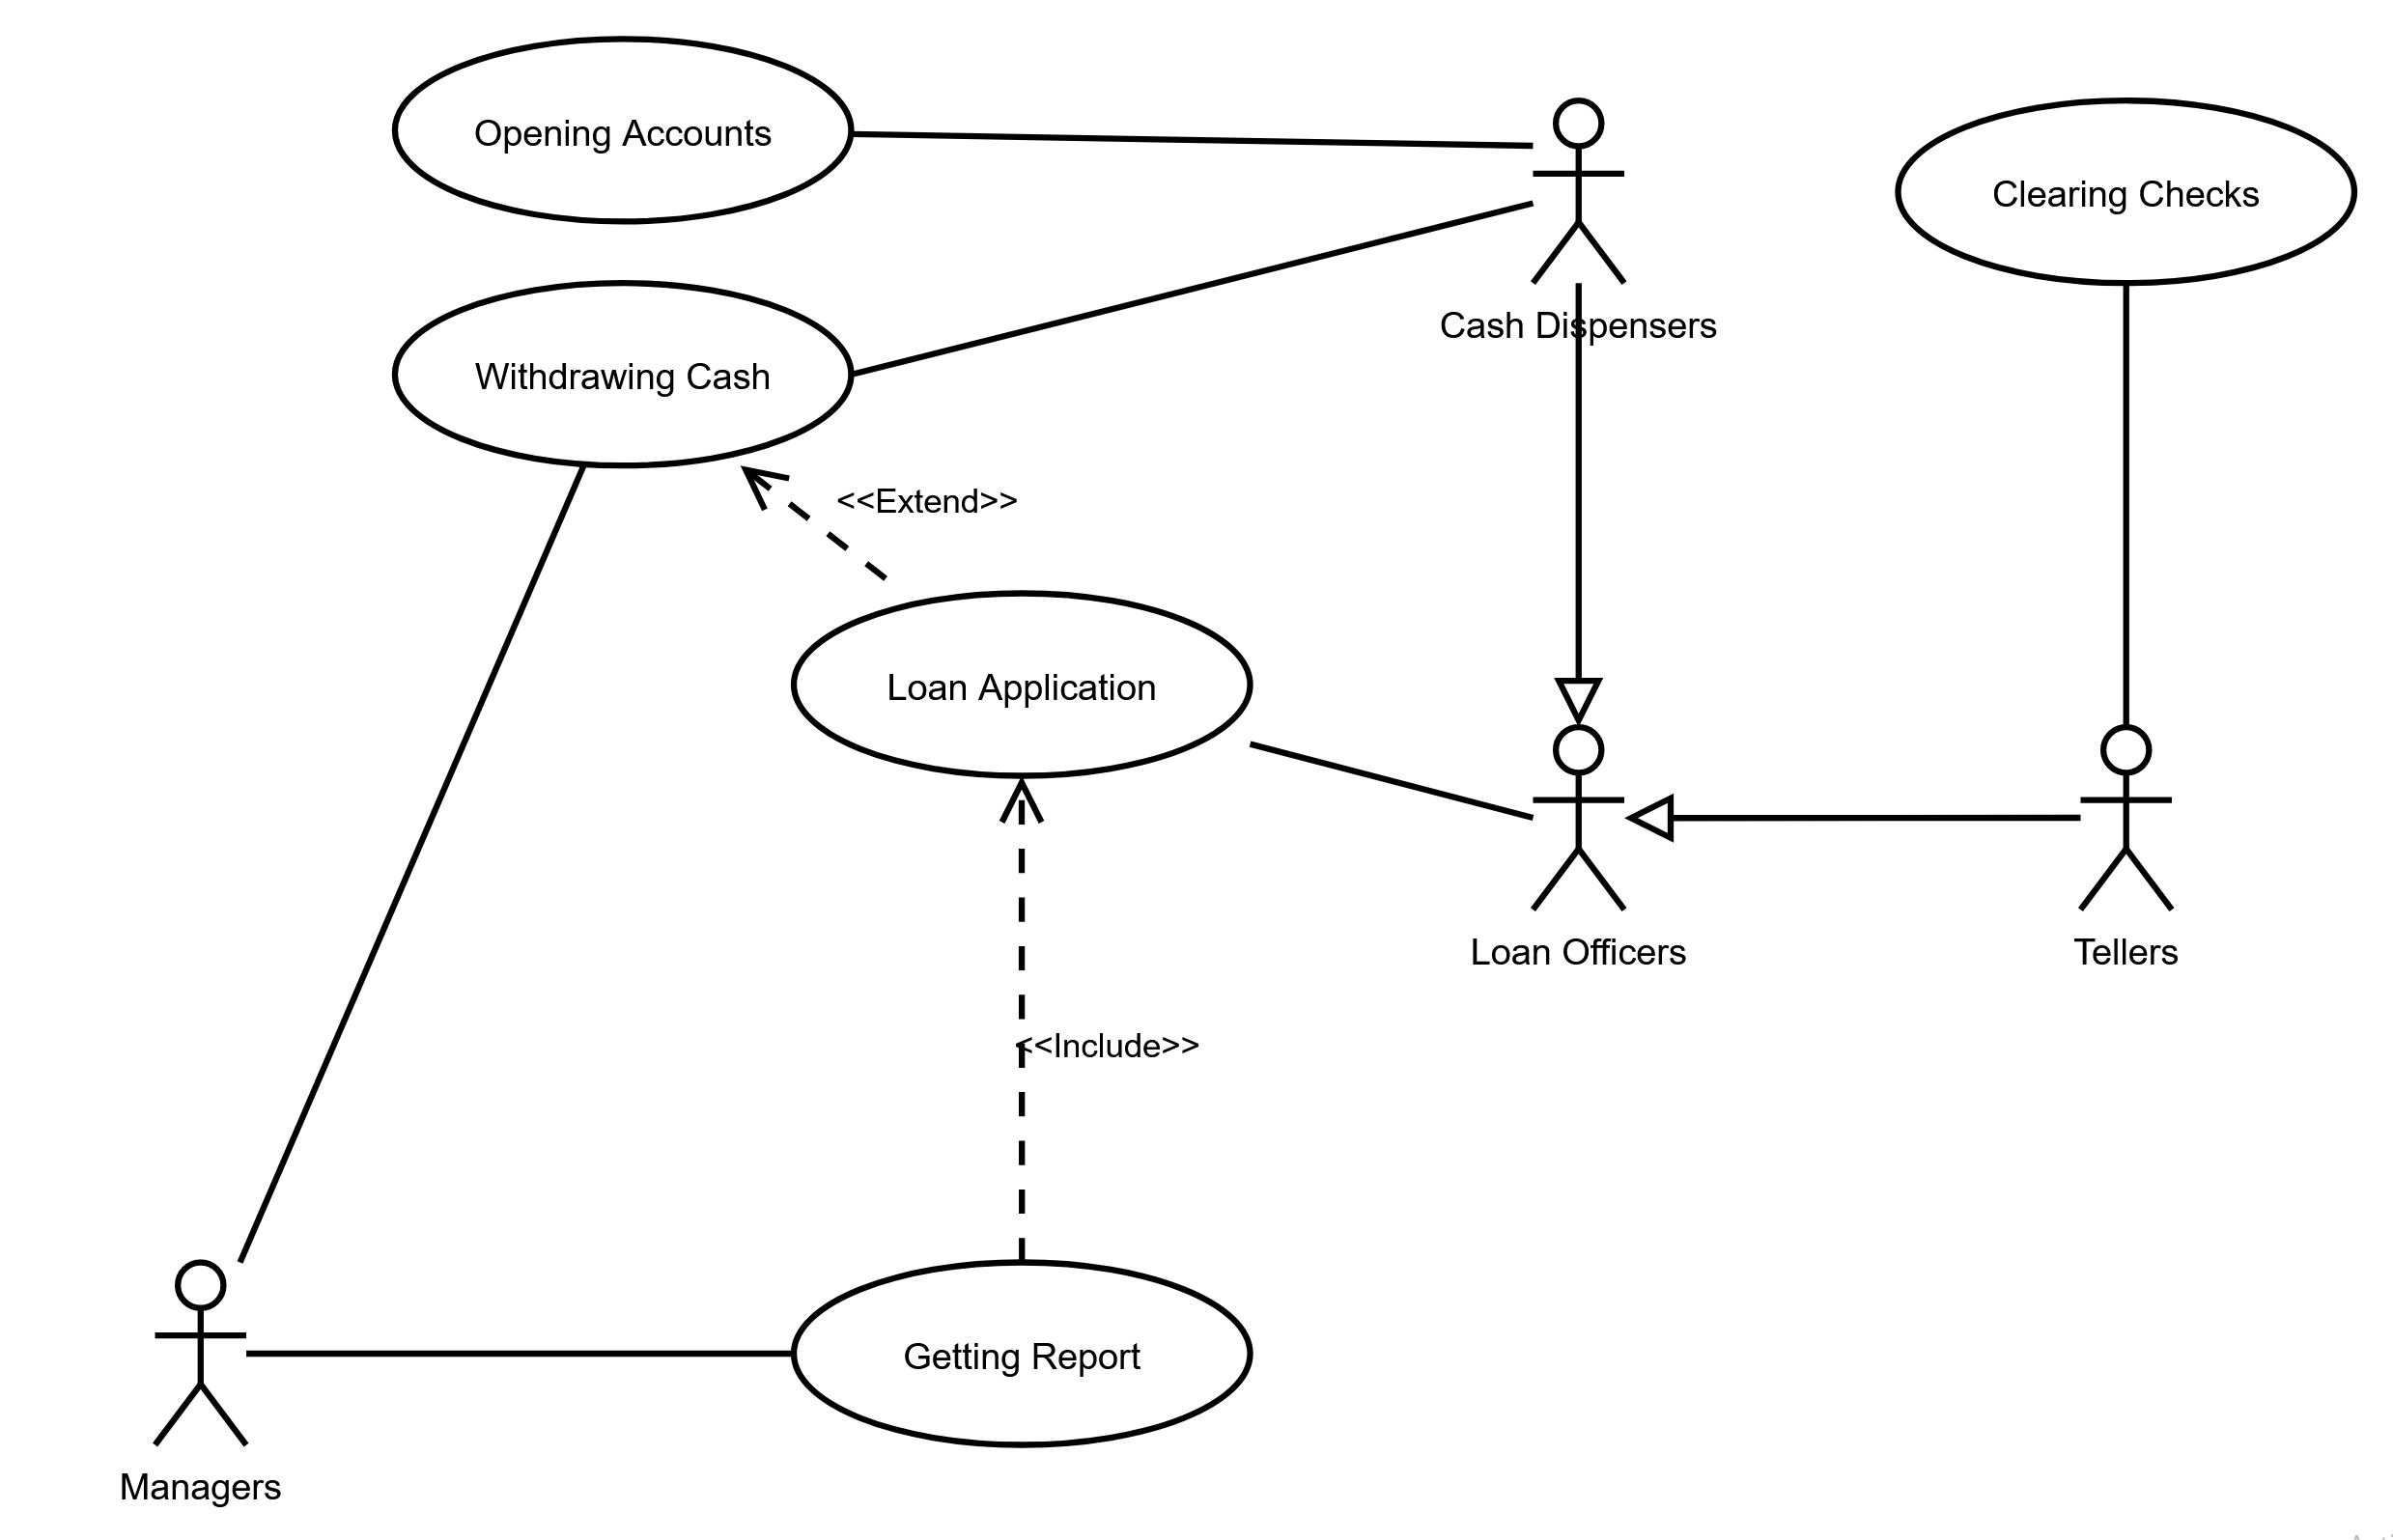actor: (143, 1256, 262, 1455), (1531, 724, 1640, 914), (1530, 89, 1633, 286), (2079, 724, 2180, 912)
association: (246, 467, 581, 1261), (851, 185, 1531, 377), (858, 115, 1533, 173), (248, 1322, 787, 1381), (987, 778, 1053, 1252), (1627, 788, 2079, 849), (1244, 733, 1535, 827), (1551, 290, 1612, 724), (734, 455, 905, 591), (2103, 284, 2145, 710)
text: (1439, 296, 1728, 359), (473, 106, 788, 162), (466, 347, 783, 401), (884, 658, 1165, 717), (1441, 924, 1694, 985), (1978, 166, 2271, 215), (897, 1327, 1144, 1381), (1013, 1022, 1216, 1069), (115, 1465, 303, 1516), (830, 480, 1020, 520), (2055, 926, 2189, 980)
